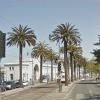Palm tree: (8, 18, 85, 88)
